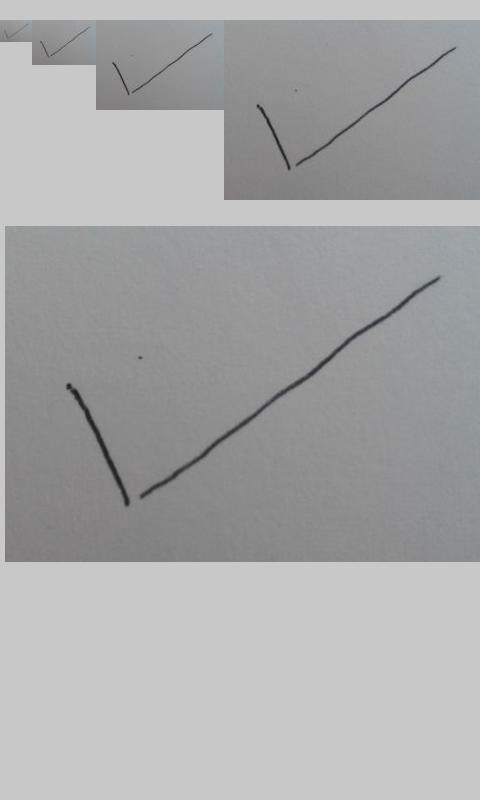check_box: (67, 276, 442, 505), (257, 47, 454, 171), (112, 34, 212, 95), (40, 27, 89, 58), (3, 25, 26, 40)
